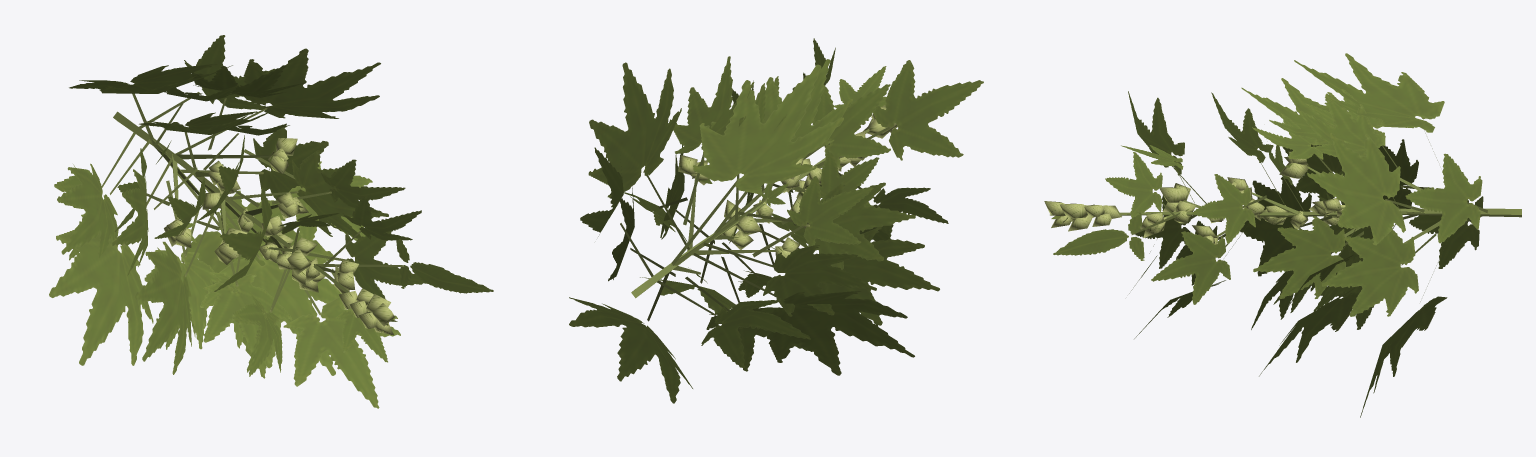
The model's file is p_male_tree_flowering_c1_cards.obj.
3 views of the same model, side by side, from view 1: azimuth 30°, elevation 25°; view 2: azimuth 150°, elevation 25°; view 3: azimuth 270°, elevation 25° (orthographic). The views are drawn at different scales.
Size of the model in its own units: 1.32 by 1.26 by 1.55.
1 material, 1 textured.
